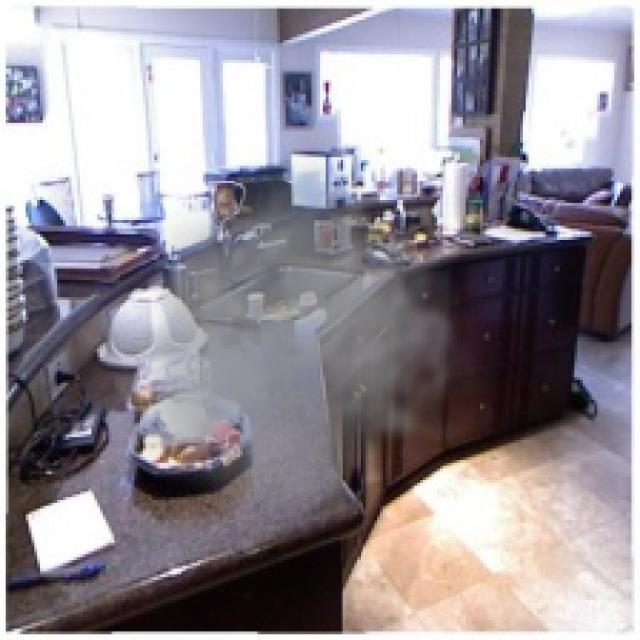Smoke: (132, 143, 497, 543)
